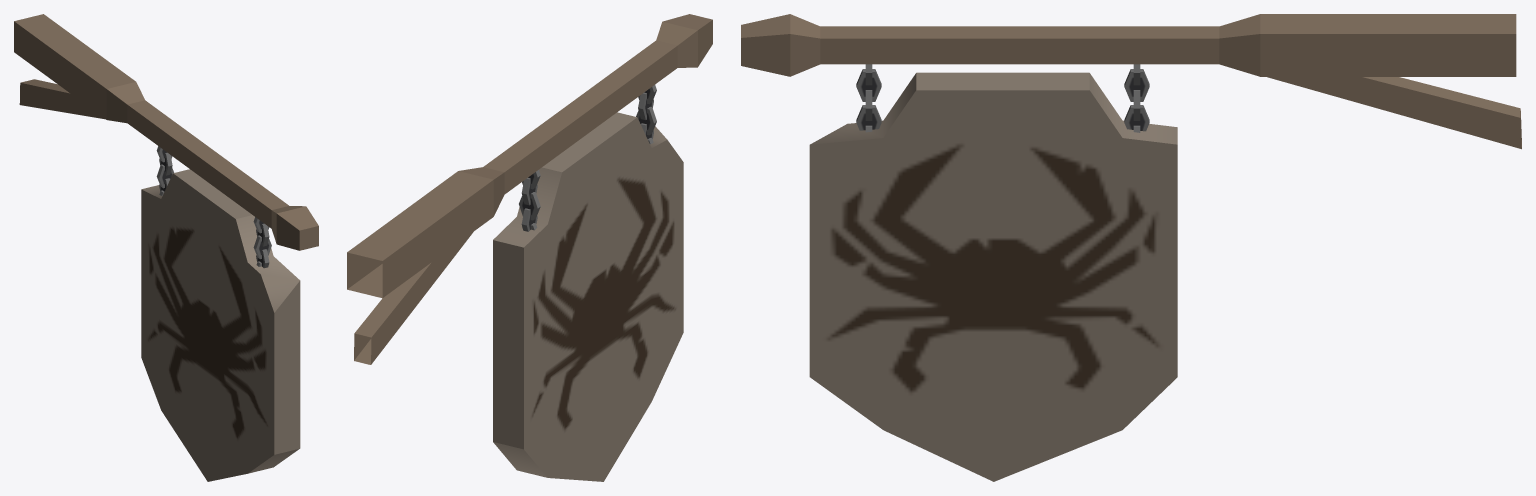
Rendered from SM_Prop_Sign_Attachment_02.fbx.
3 views of the same model, side by side, from view 1: azimuth 30°, elevation 25°; view 2: azimuth 150°, elevation 25°; view 3: azimuth 270°, elevation 25° (orthographic). The views are drawn at different scales.
Parts seen in each view (by area): view 1: SM_Prop_Sign_Attachment_02; view 2: SM_Prop_Sign_Attachment_02; view 3: SM_Prop_Sign_Attachment_02.
Boxes of the visible parts, bbox=[...] form: SM_Prop_Sign_Attachment_02: bbox=[14, 14, 318, 481]; SM_Prop_Sign_Attachment_02: bbox=[347, 14, 712, 481]; SM_Prop_Sign_Attachment_02: bbox=[741, 14, 1521, 481].
Size of the model in its own units: 0.1343 by 1.36 by 2.15.
